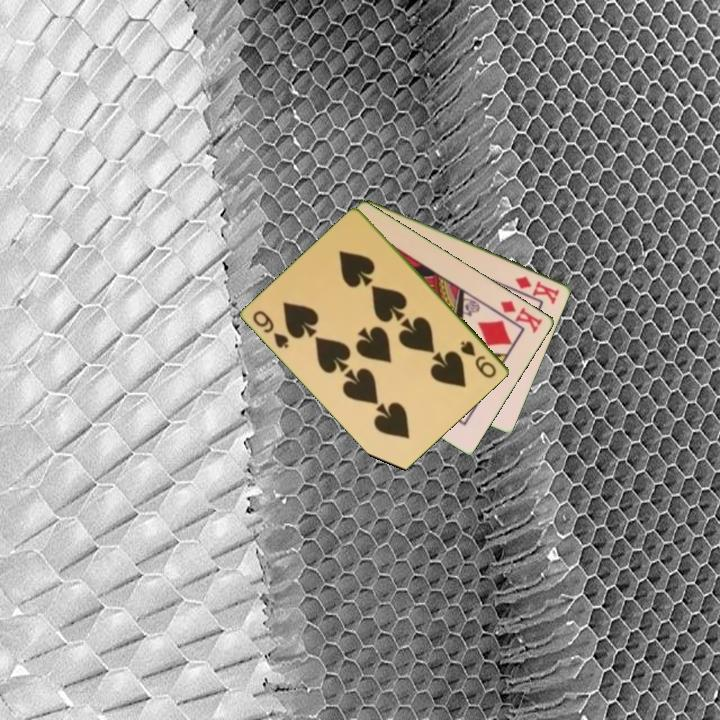9s: (249, 307, 292, 352), (457, 337, 500, 381)
Kd: (497, 297, 546, 336), (512, 272, 563, 306)
